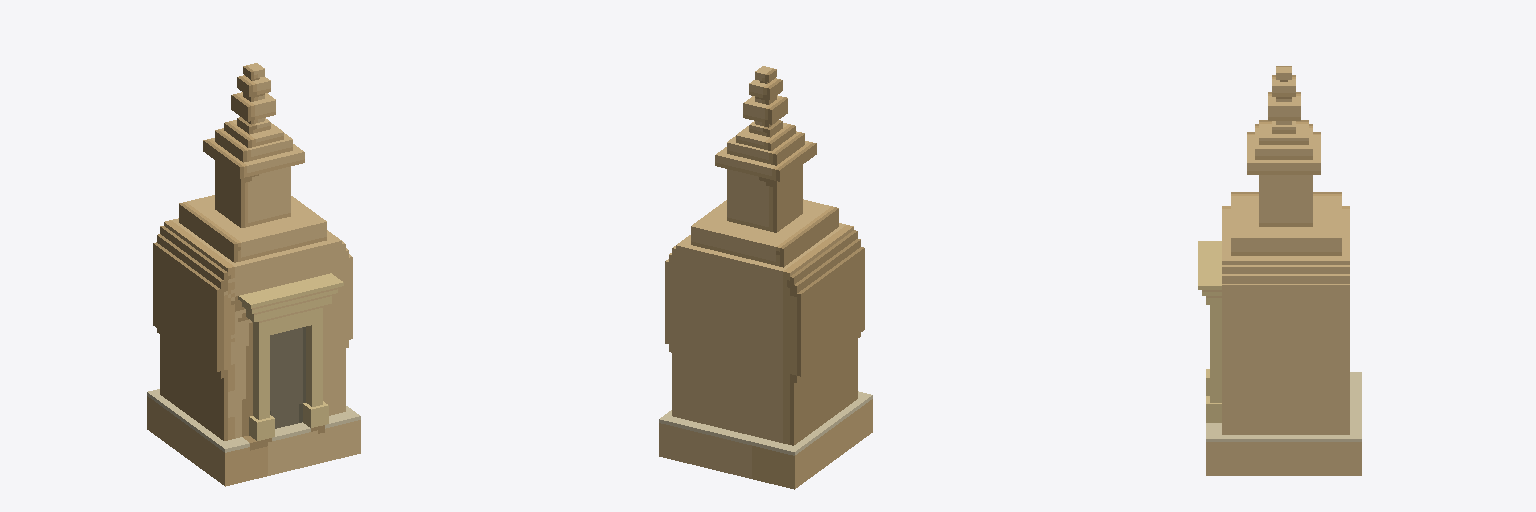
The picture shows the model from 3 angles: view 1: azimuth 30°, elevation 25°; view 2: azimuth 150°, elevation 25°; view 3: azimuth 270°, elevation 25°; orthographic projection.
Bounding box in the file's own units: 38 × 100 × 40.
Materials: 1 (1 with a texture image).